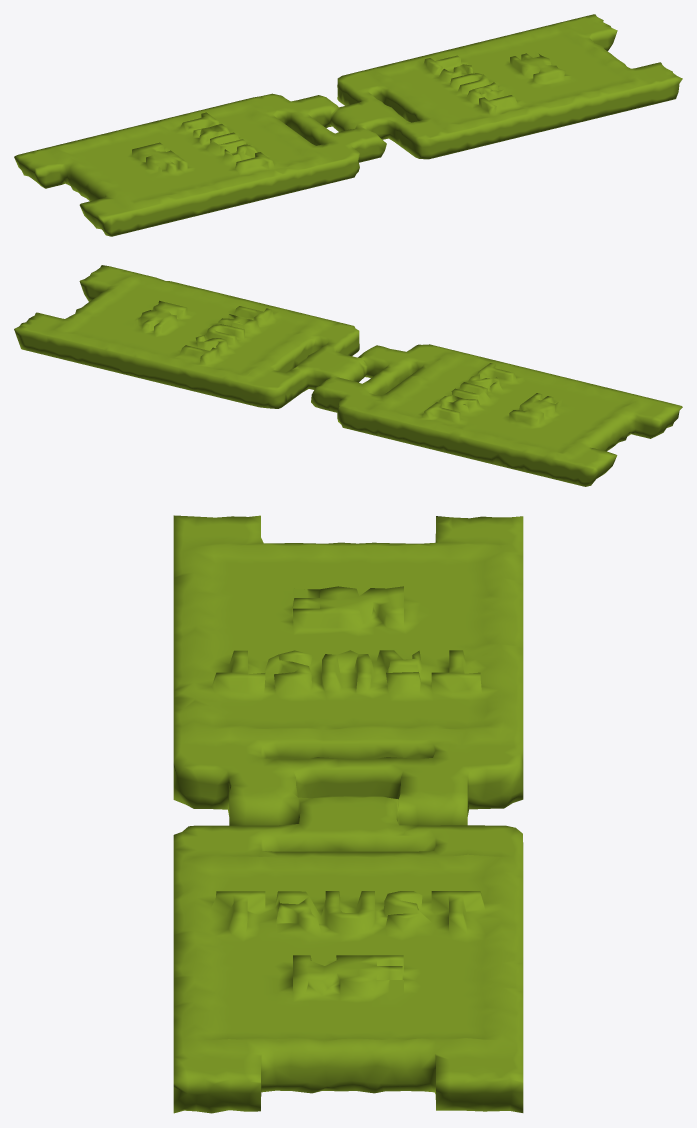
The model's file is model_decimated.obj.
The picture shows the model from 3 angles, top to bottom: view 1: azimuth 30°, elevation 25°; view 2: azimuth 150°, elevation 25°; view 3: azimuth 270°, elevation 25°; orthographic projection. The views are drawn at different scales.
Bounding box in the file's own units: 154 × 6.63 × 40.
